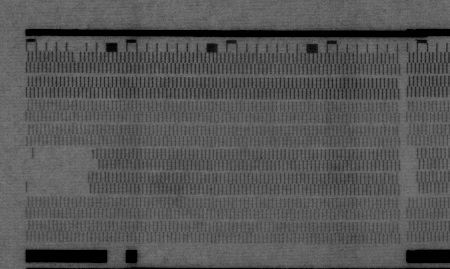Broken hole: (24, 144, 102, 197), (405, 145, 423, 195), (71, 52, 83, 62)
